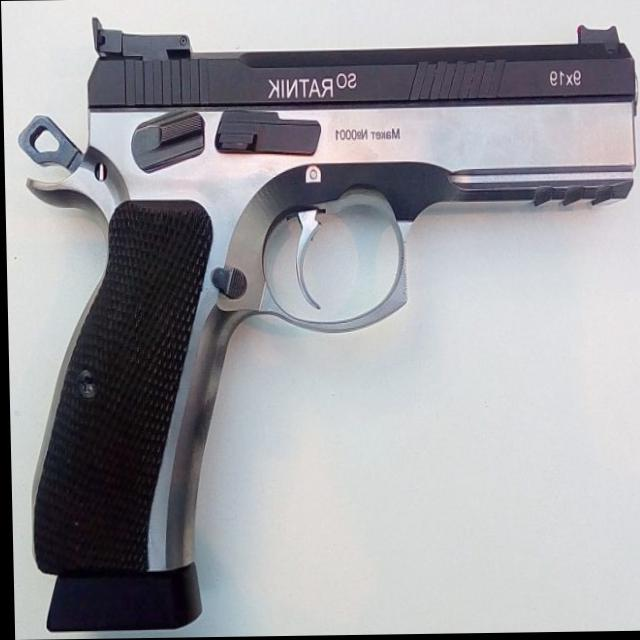handgun: (21, 22, 640, 632)
